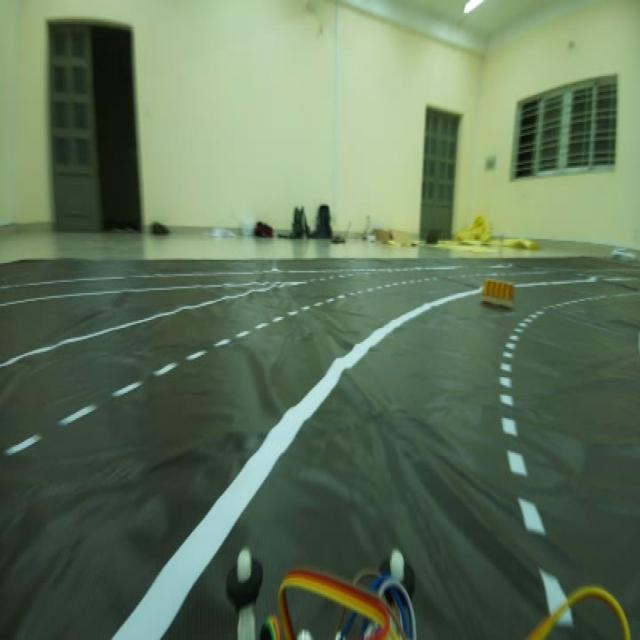roadblock: (480, 265, 518, 312)
